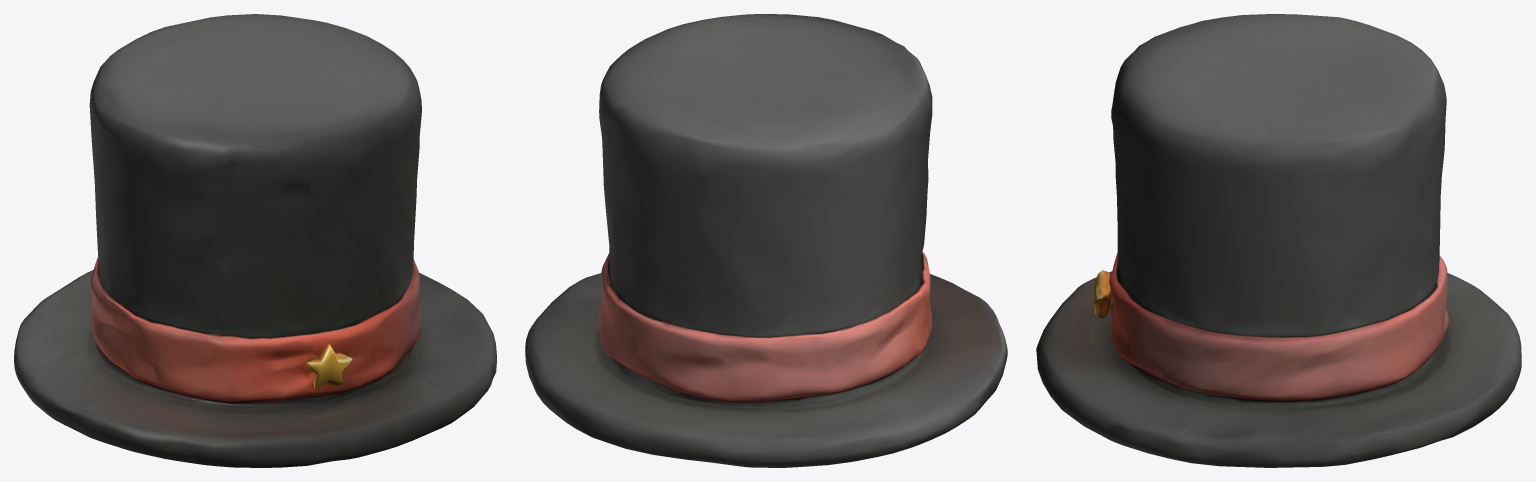
File: aks-silindir1.glb
3 views of the same model, side by side, from view 1: azimuth 30°, elevation 25°; view 2: azimuth 150°, elevation 25°; view 3: azimuth 270°, elevation 25° (orthographic).
Parts seen in each view (by area): view 1: aks; view 2: aks; view 3: aks.
Part boxes in pixels (left/top/right/bottom): aks: left=14, top=14, right=496, bottom=467; aks: left=525, top=14, right=1007, bottom=467; aks: left=1036, top=14, right=1521, bottom=467.
Bounding box in the file's own units: 0.9803 × 0.6651 × 0.9744.
1 material, 1 textured.
